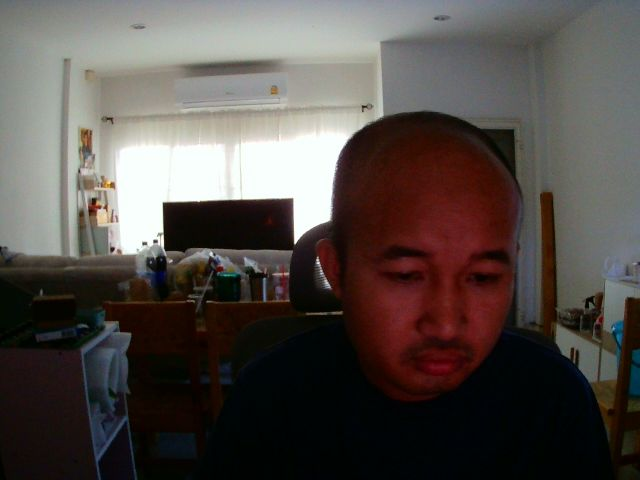face: (332, 113, 518, 397)
